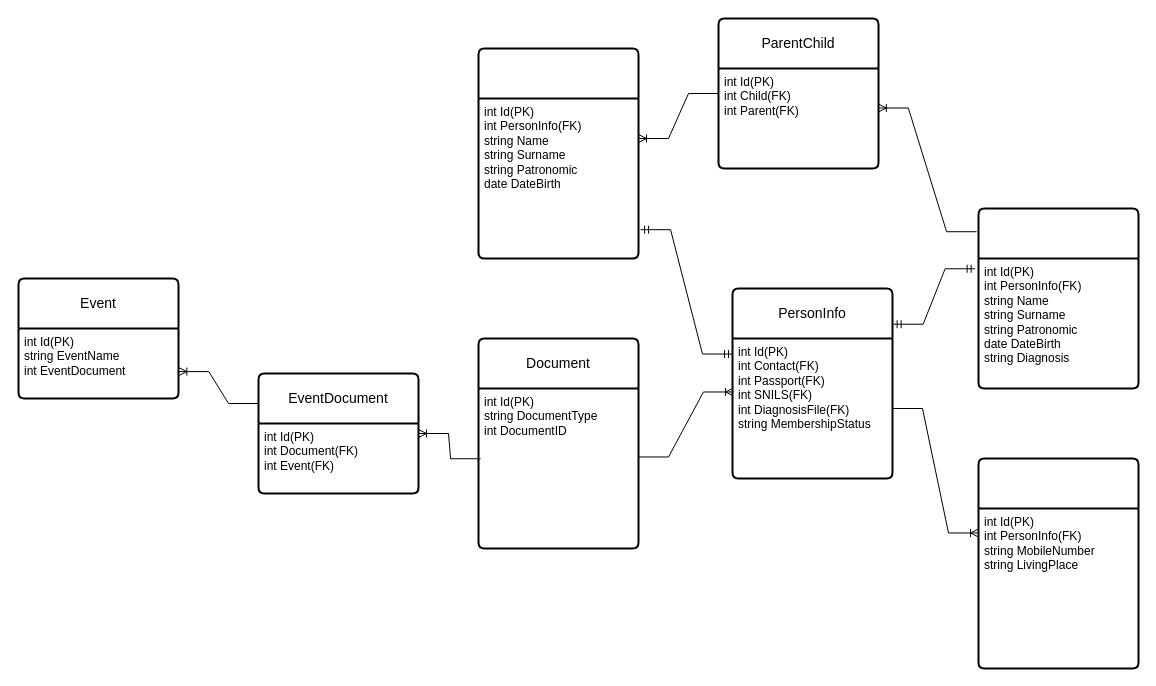
This 1156x686 diagram has some shape labels left out. Here are the shapes that lost their labels. From the top down, the box of each, then its label:
(477, 47, 639, 259): Parent
(977, 207, 1139, 389): Child
(977, 457, 1139, 669): Contact
